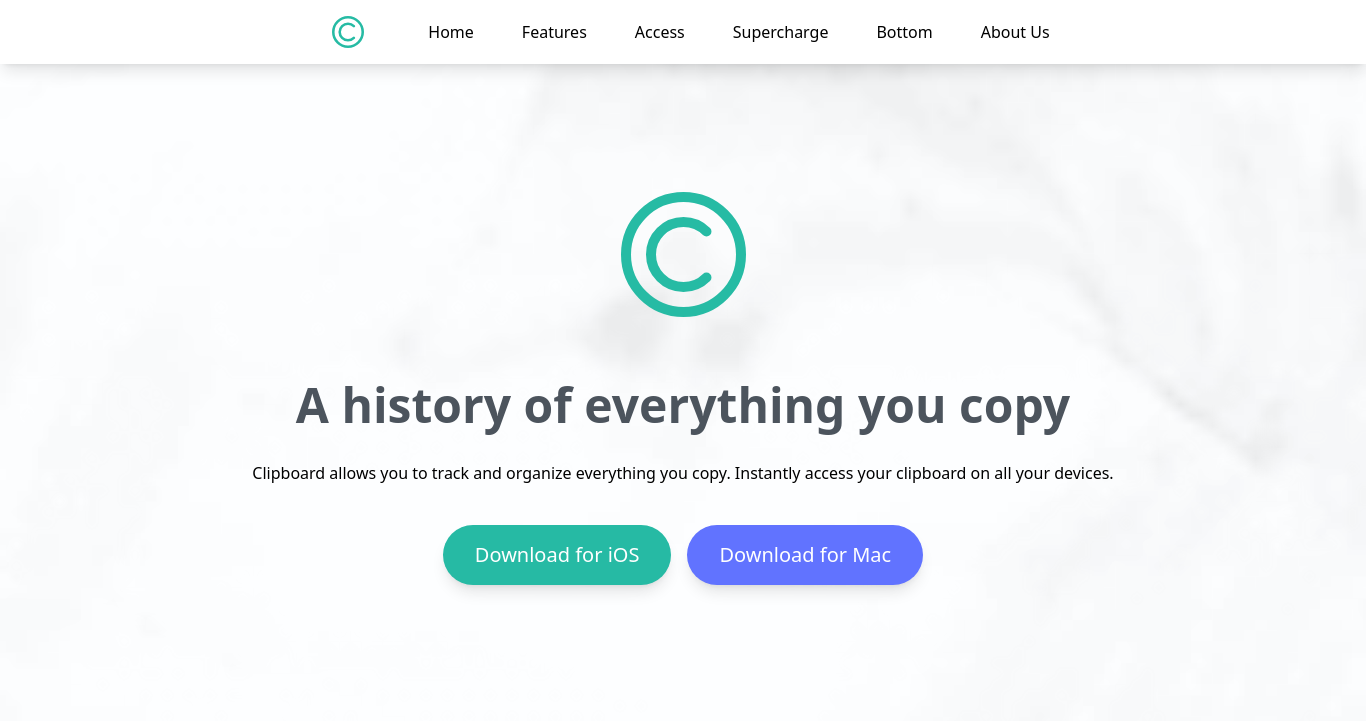
Navigation › should navigate to the about page
Click the link "About Us": (1016, 32) 981,20 -> 1050,44
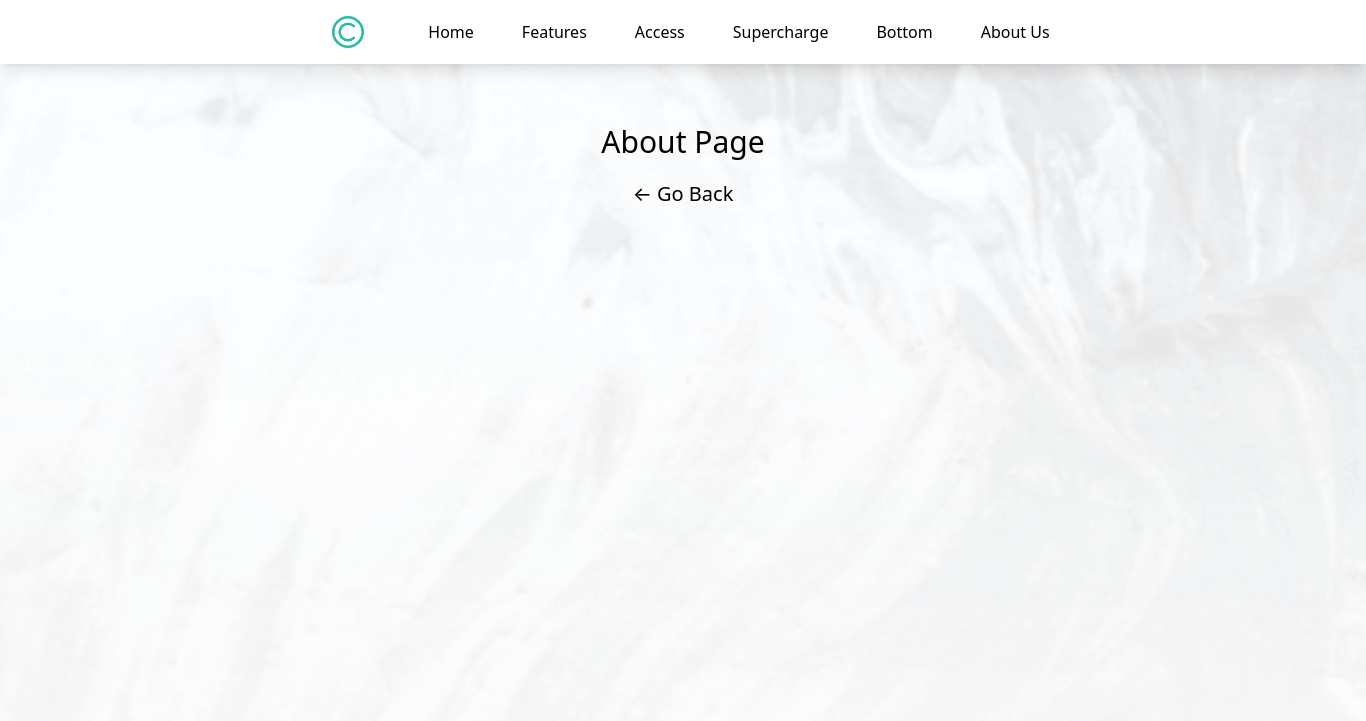
Result: the heading "About Page" is shown at 601,121 -> 765,162
